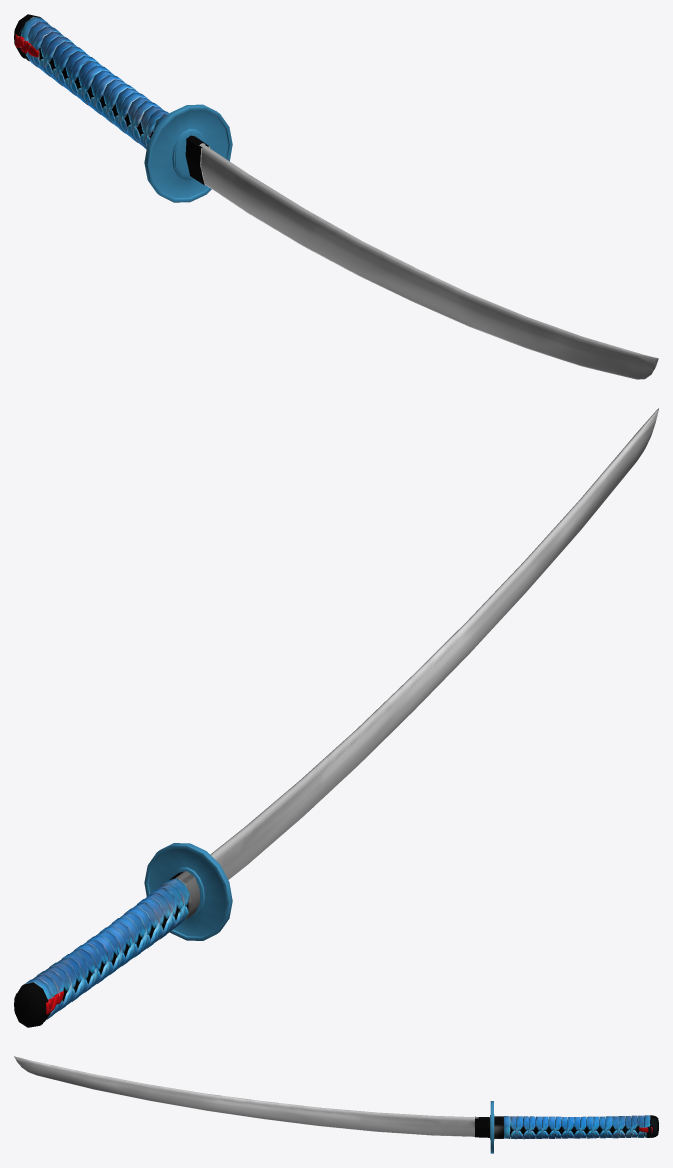
Rendered from Katana2.fbx.
The picture shows the model from 3 angles, top to bottom: view 1: azimuth 30°, elevation 25°; view 2: azimuth 150°, elevation 25°; view 3: azimuth 270°, elevation 25°; orthographic projection. The views are drawn at different scales.
Parts seen in each view (by area): view 1: Lamina, Linha punhal, Rodela, Punhal.002; view 2: Lamina, Linha punhal, Rodela, Punhal.002; view 3: Lamina, Linha punhal, Punhal.002, Rodela.
Part boxes in pixels (x1,y1,x2,y2): Lamina: (200,144,658,379); Linha punhal: (21,17,169,149); Rodela: (144,104,232,202); Punhal.002: (14,14,209,185); Lamina: (210,408,658,879); Linha punhal: (24,878,189,1019); Rodela: (144,843,232,940); Punhal.002: (14,871,199,1027); Lamina: (14,1056,478,1136); Linha punhal: (503,1115,650,1139); Punhal.002: (475,1115,658,1138); Rodela: (490,1101,494,1153).
Bounding box in the file's own units: 145 × 304 × 1868.
